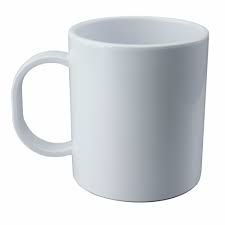cup: (8, 13, 212, 205)
